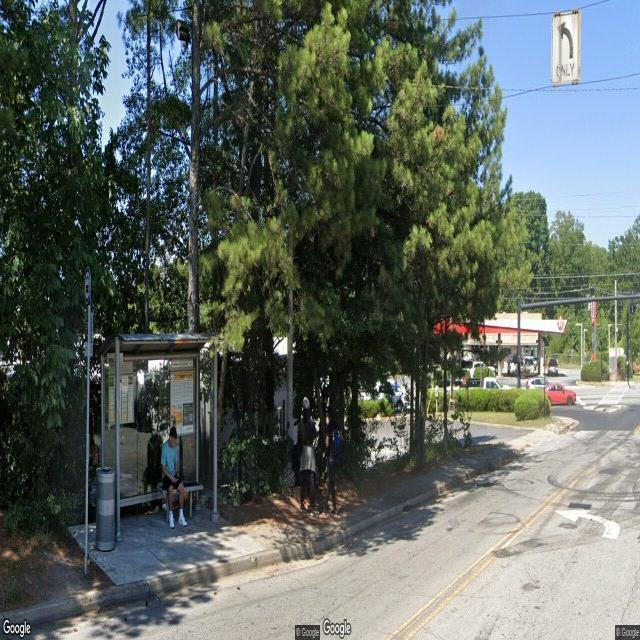seating: (160, 479, 204, 519)
shelter: (96, 333, 224, 539)
trash_can: (96, 466, 116, 554), (90, 312, 94, 357)
